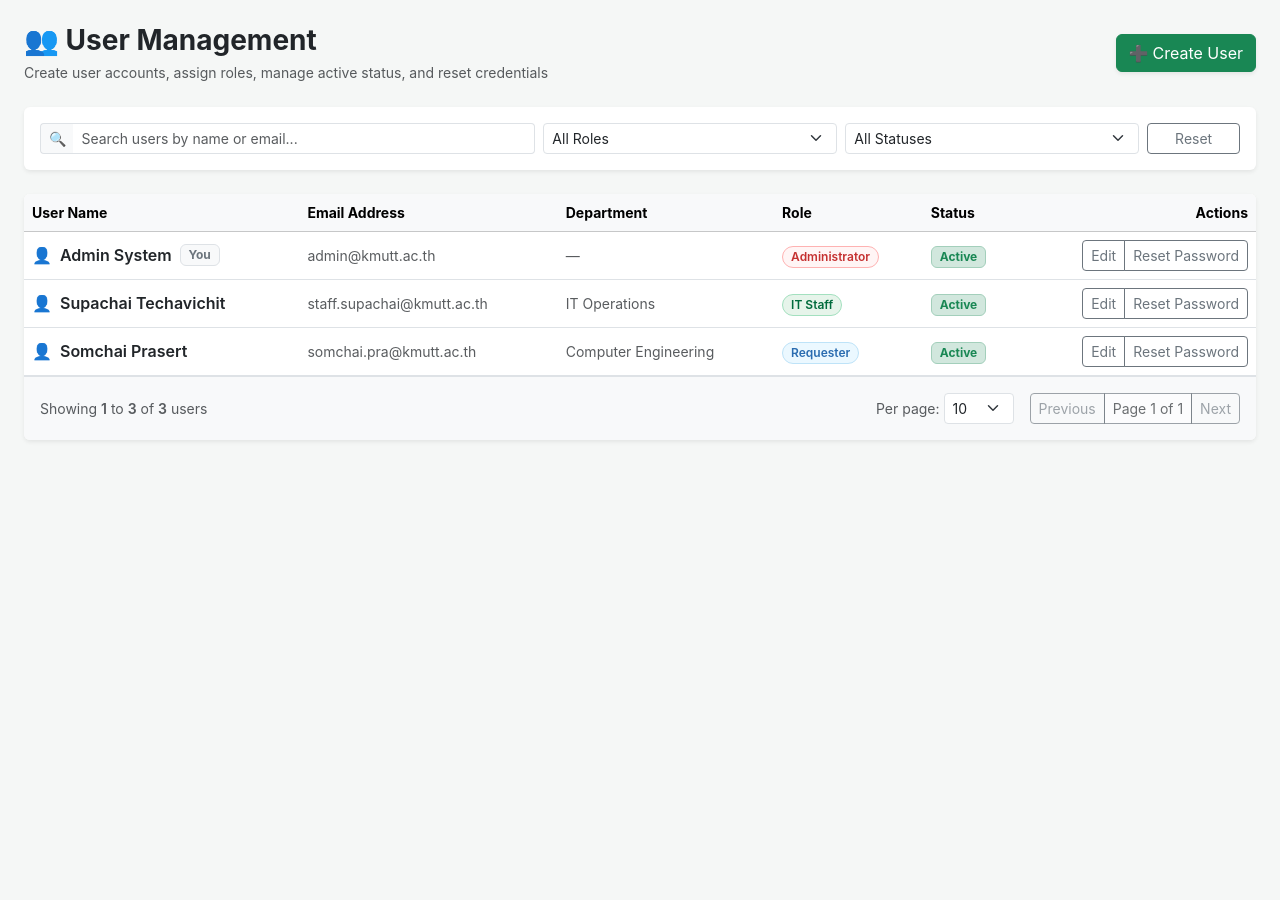
Test: UI-15 to UI-18: UserManagement Component › UI-17 (AC-10): modifies user role, updates active status toggle, and respects self-deactivation guardrail
// Edit Staff user 6
Click the button with test id "edit-user-btn-6".
click(1104, 303)  # box top-left (1082, 288), bottom-right (1125, 319)
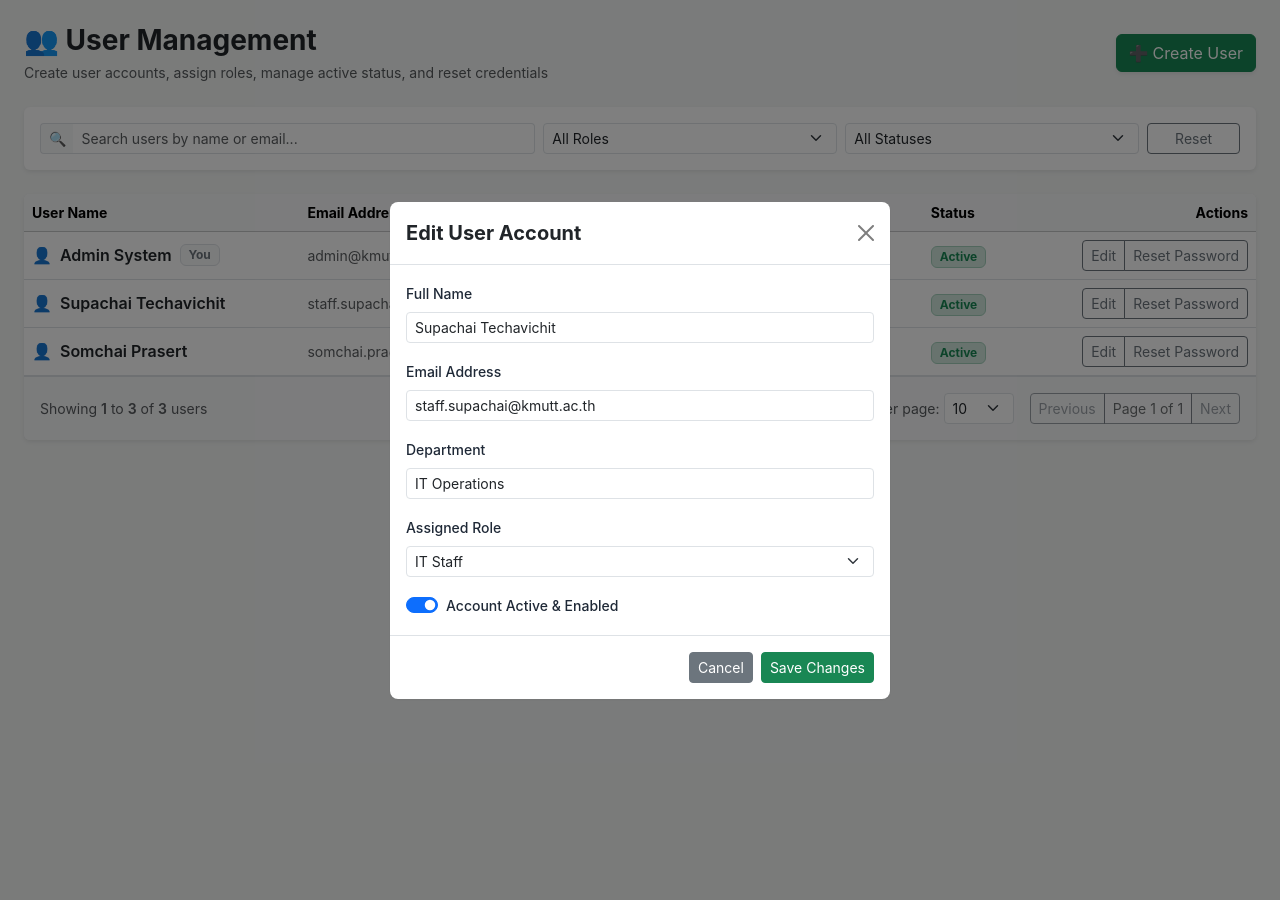
Check: the heading "Edit User Account" is shown, box top-left (406, 218), bottom-right (581, 248)
Check: the field with test id "edit-name-input" holds "Supachai Techavichit", box top-left (406, 312), bottom-right (874, 342)
Replace the text in the field with test id "edit-dept-input" with "Infrastructure Support" at (640, 483), box top-left (406, 468), bottom-right (874, 498)
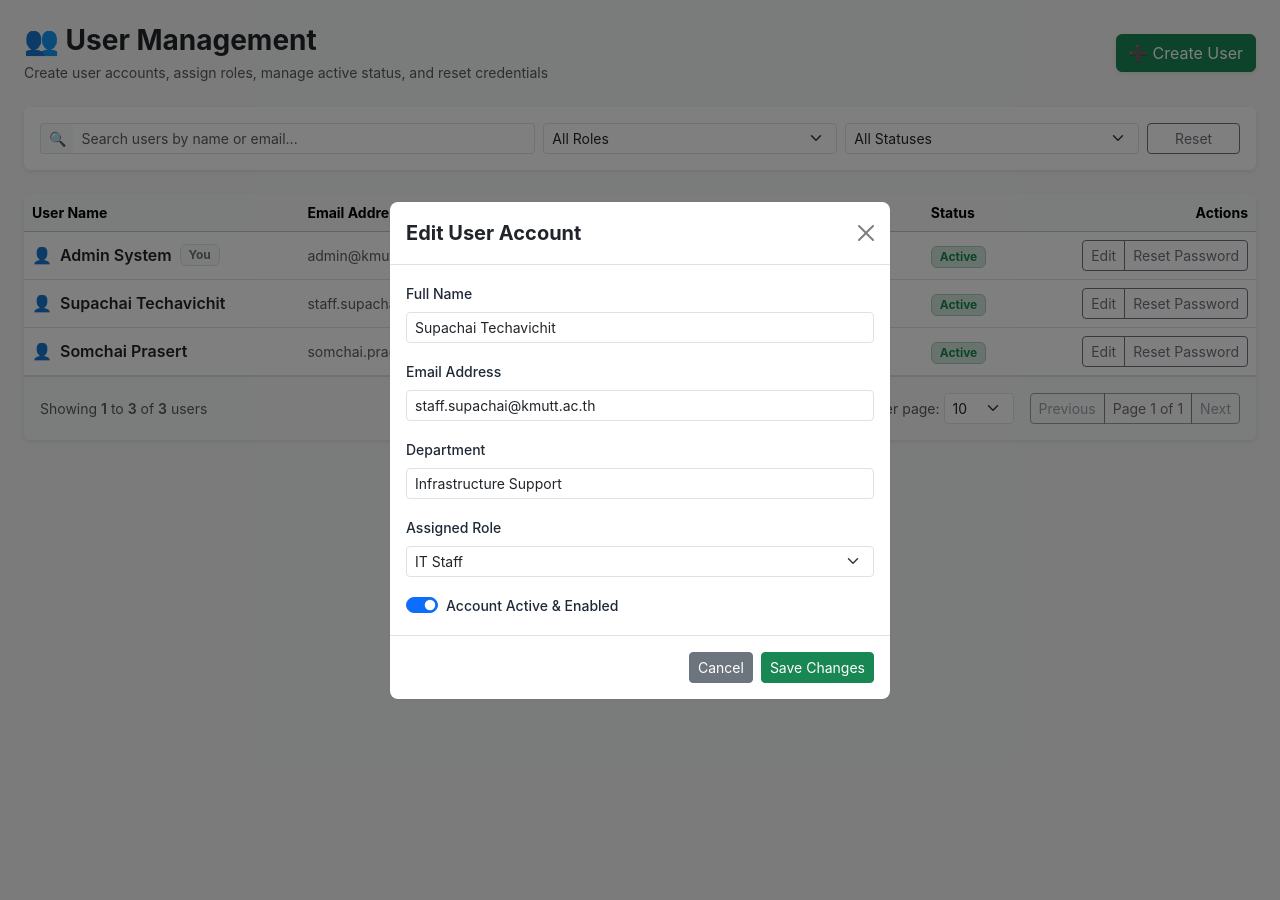
Select "Administrator" in the dropdown with test id "edit-role-select" at (640, 561), box top-left (406, 546), bottom-right (874, 576)
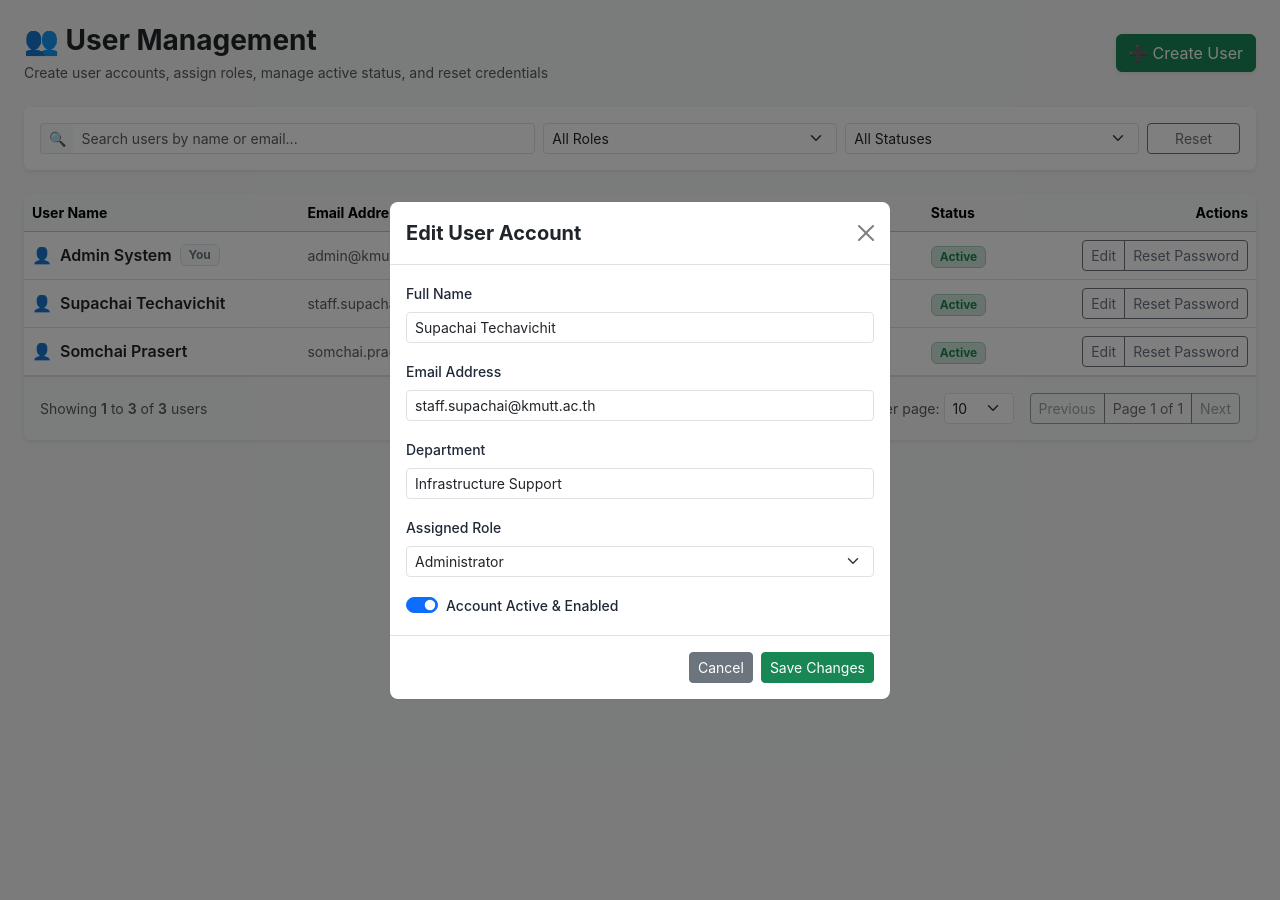
Click the button with test id "submit-edit-user-btn".
click(817, 667)  # box top-left (761, 652), bottom-right (874, 682)
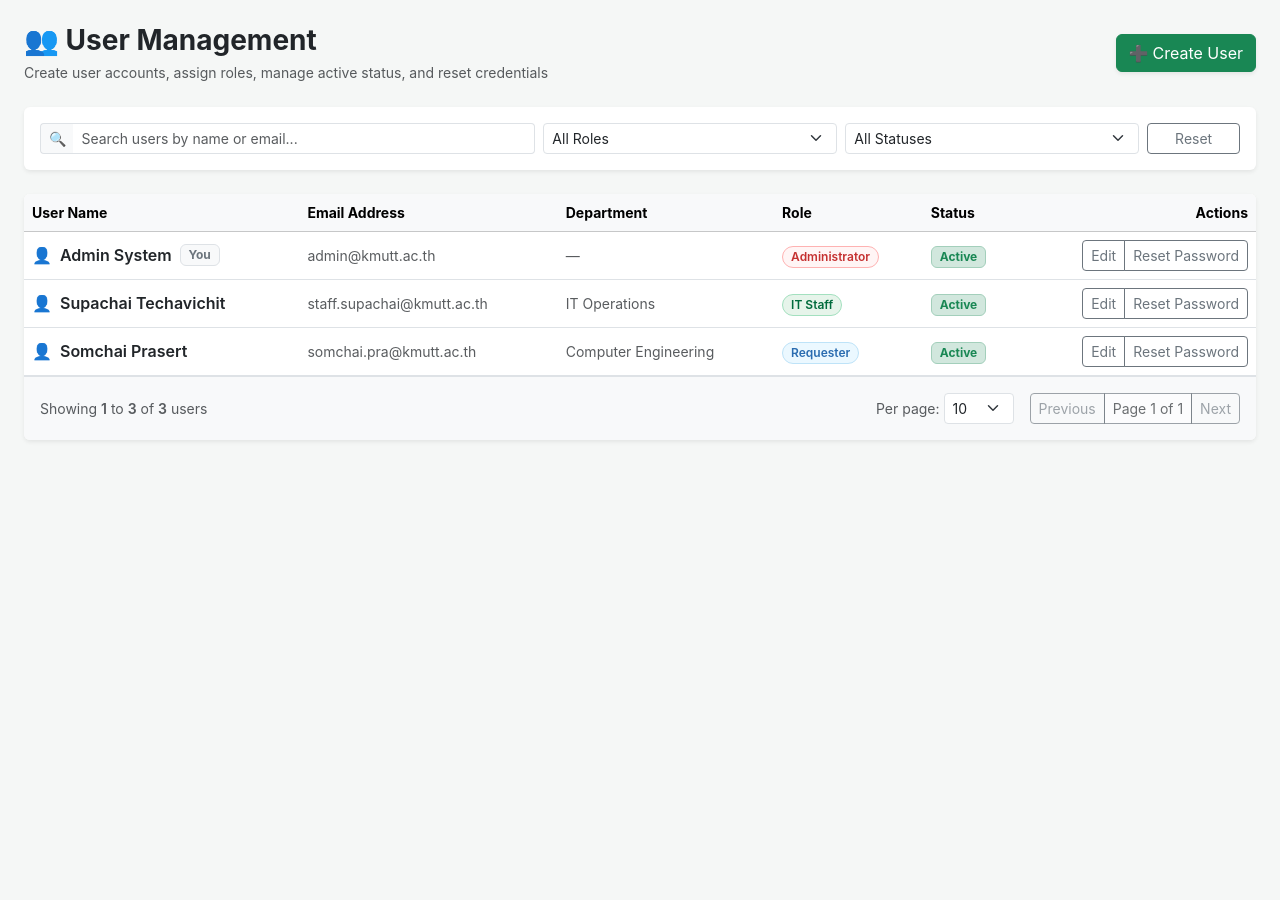
Click the button with test id "edit-user-btn-10".
click(1104, 255)  # box top-left (1082, 240), bottom-right (1125, 271)
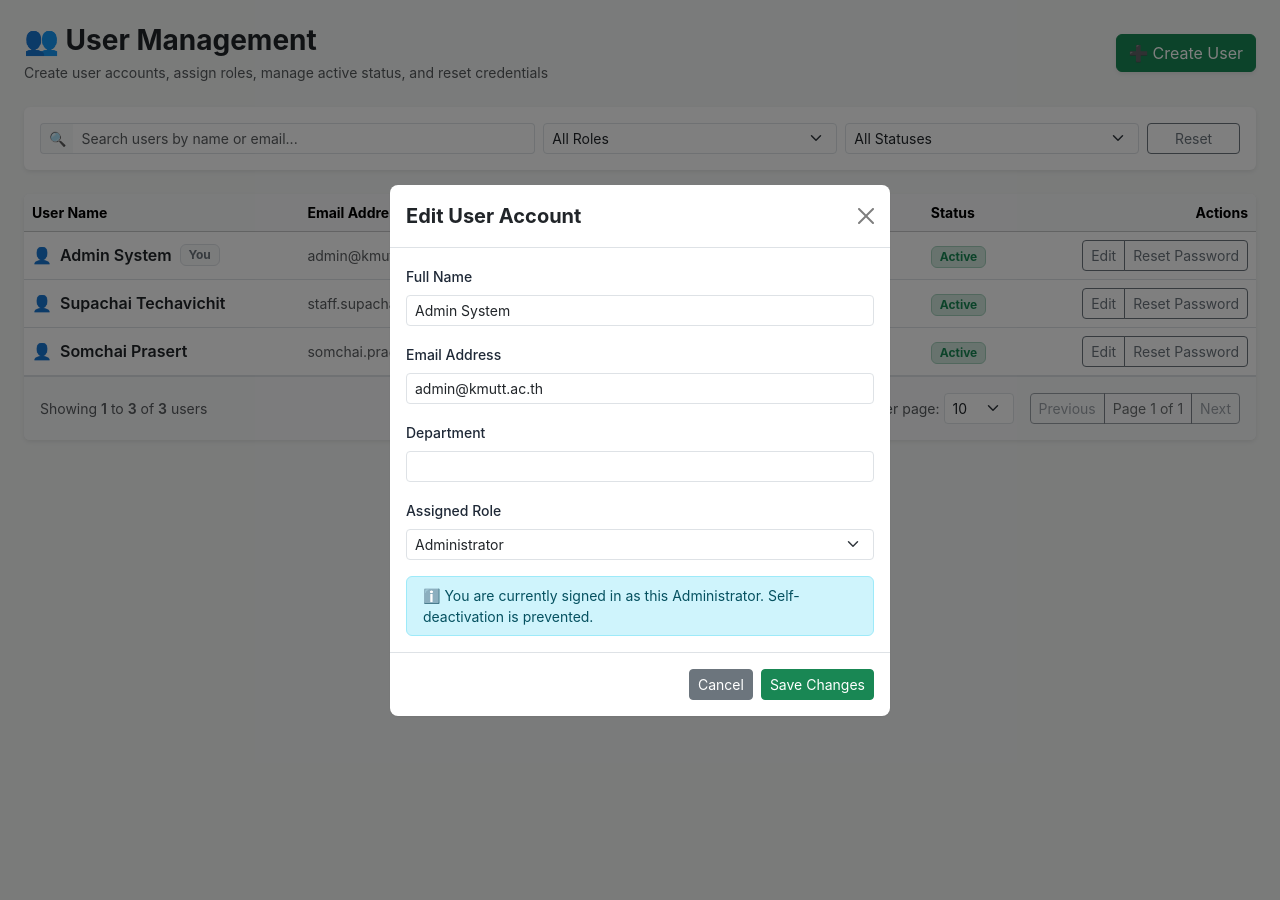
Check: the text "Self-deactivation is prevented" is shown, box top-left (423, 586), bottom-right (800, 624)
